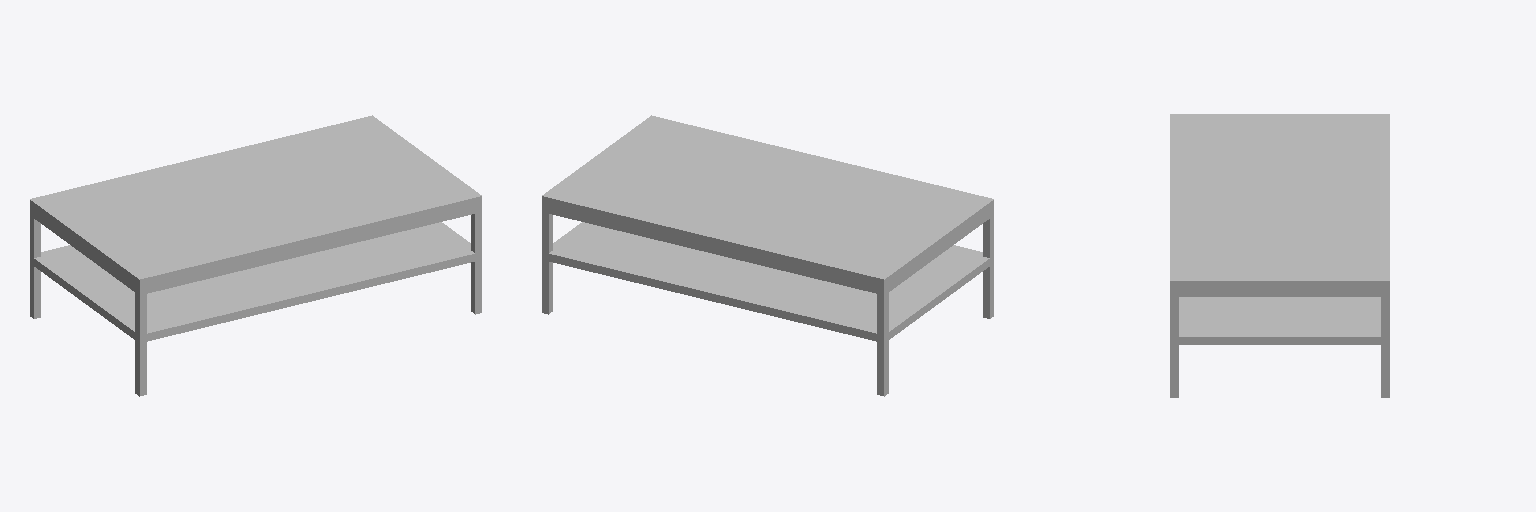
The model's file is coffee_table1.obj.
3 views of the same model, side by side, from view 1: azimuth 30°, elevation 25°; view 2: azimuth 150°, elevation 25°; view 3: azimuth 270°, elevation 25° (orthographic).
Parts seen in each view (by area): view 1: up_Untitled, metal_Untitled.001; view 2: up_Untitled, metal_Untitled.001; view 3: up_Untitled, metal_Untitled.001.
Boxes of the visible parts, box(x1,y1,x2,y2) form: up_Untitled: box(30, 115, 481, 287); metal_Untitled.001: box(30, 204, 481, 396); up_Untitled: box(542, 115, 993, 287); metal_Untitled.001: box(542, 204, 993, 396); up_Untitled: box(1170, 114, 1389, 288); metal_Untitled.001: box(1170, 289, 1389, 397).
Size of the model in its own units: 0.9002 by 0.293 by 0.5001.